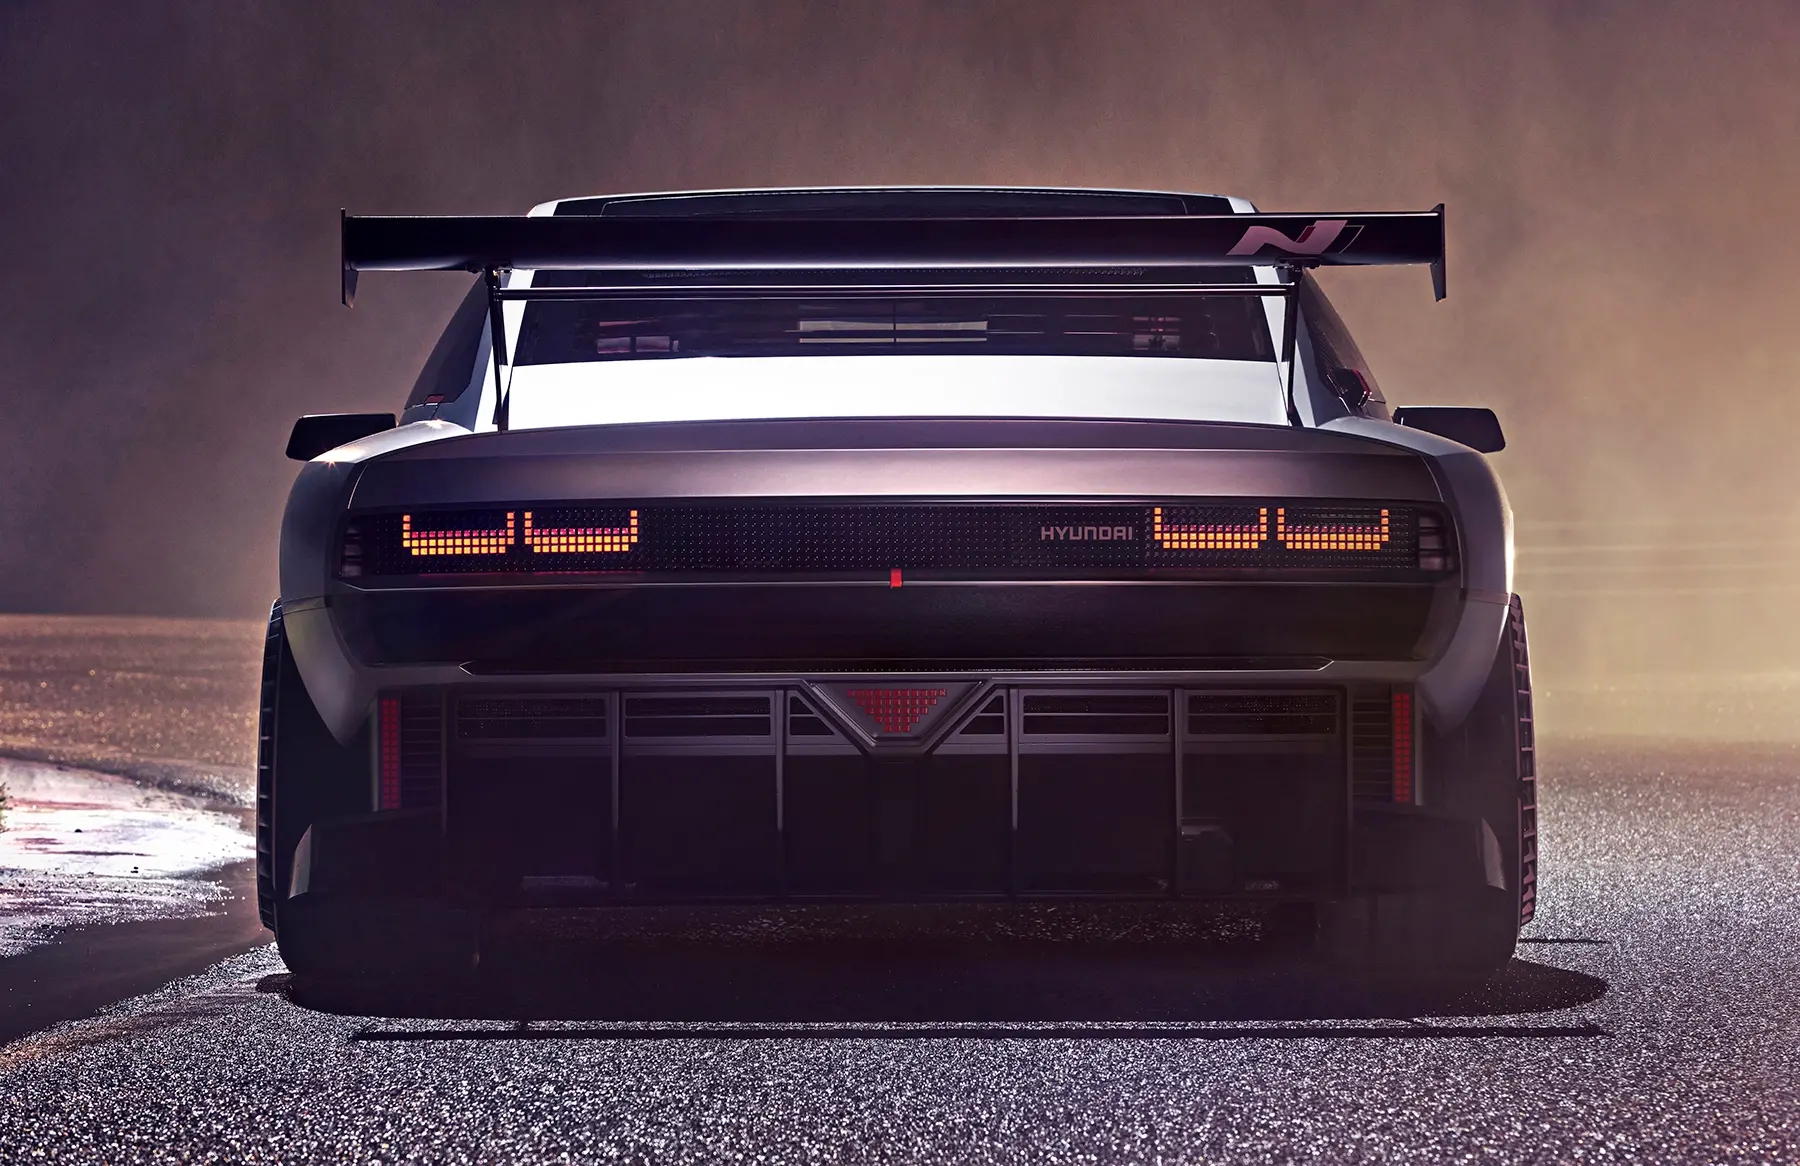car: (236, 171, 1556, 1026)
